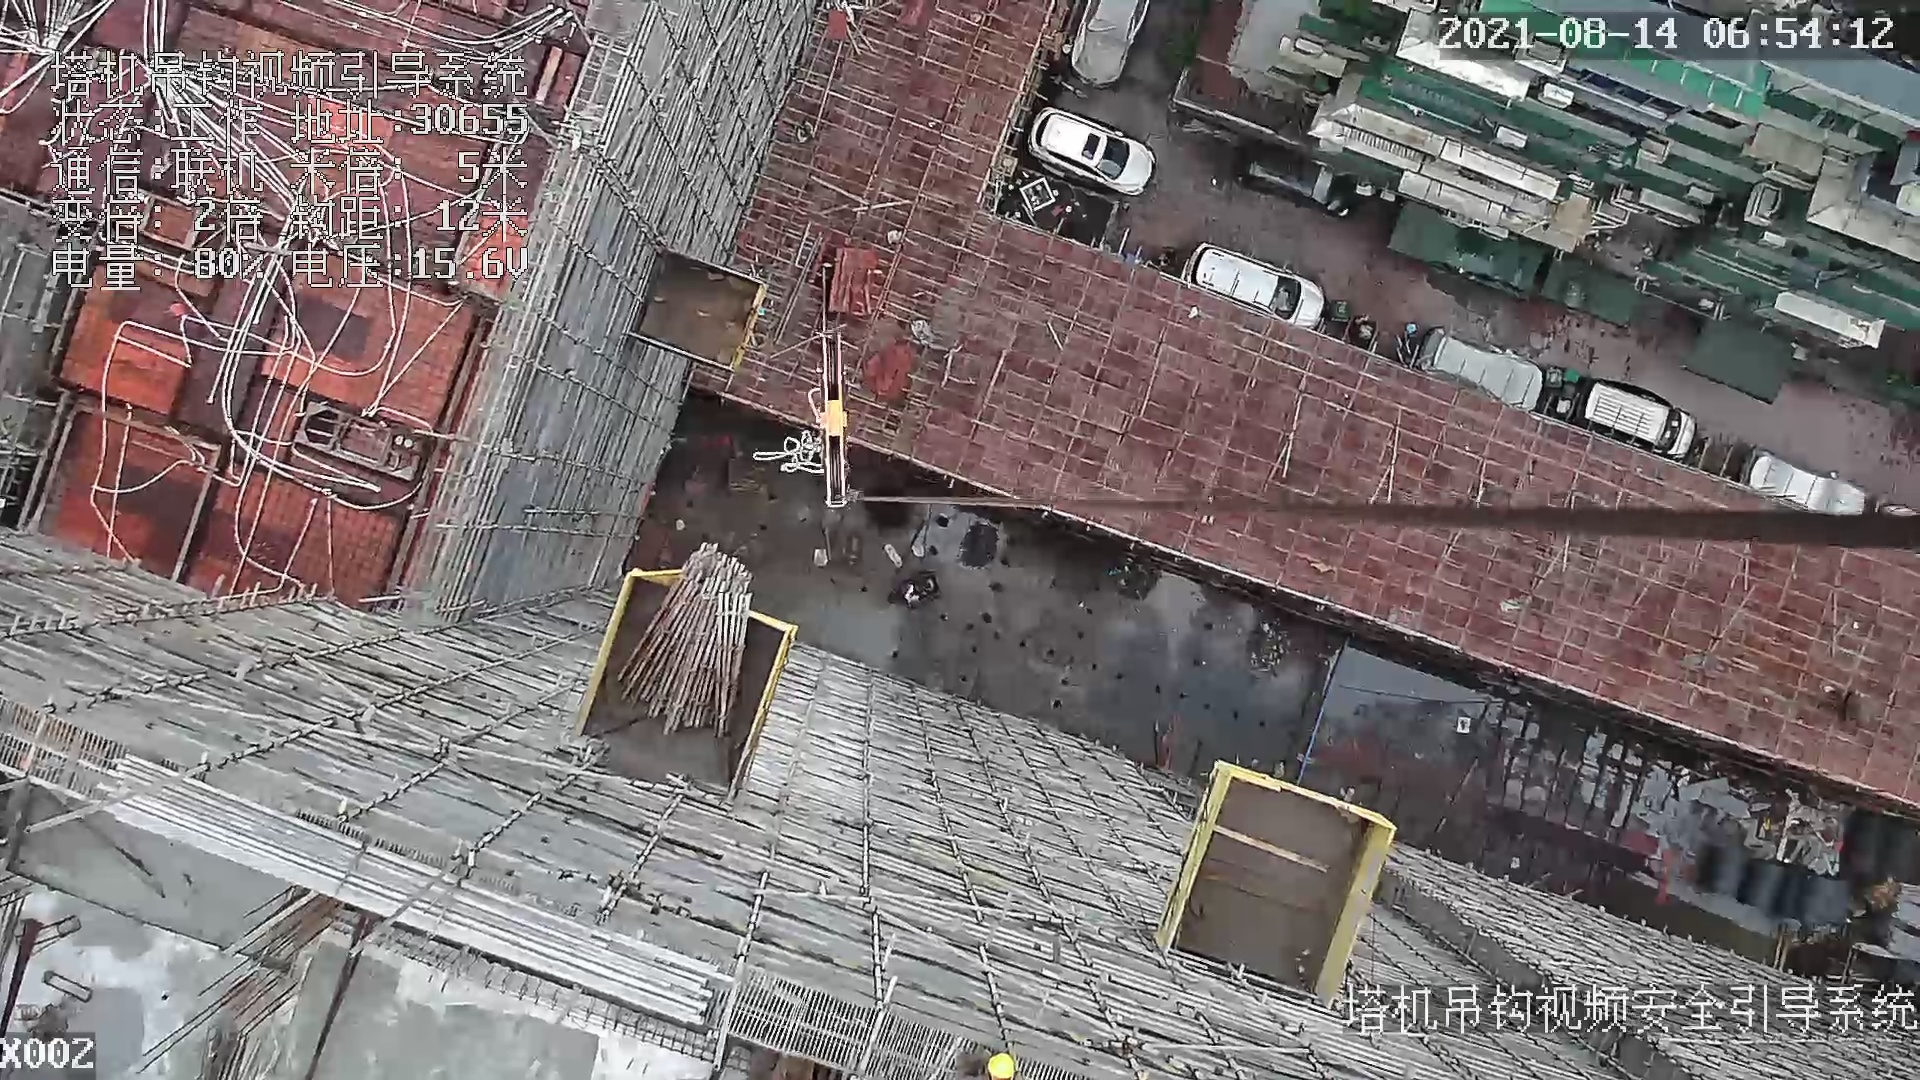helmet: (984, 1049, 1013, 1078)
hook: (809, 323, 859, 513)
person: (960, 1050, 1017, 1080)
rebar: (104, 756, 715, 1020)
scaffold: (618, 542, 749, 740)
